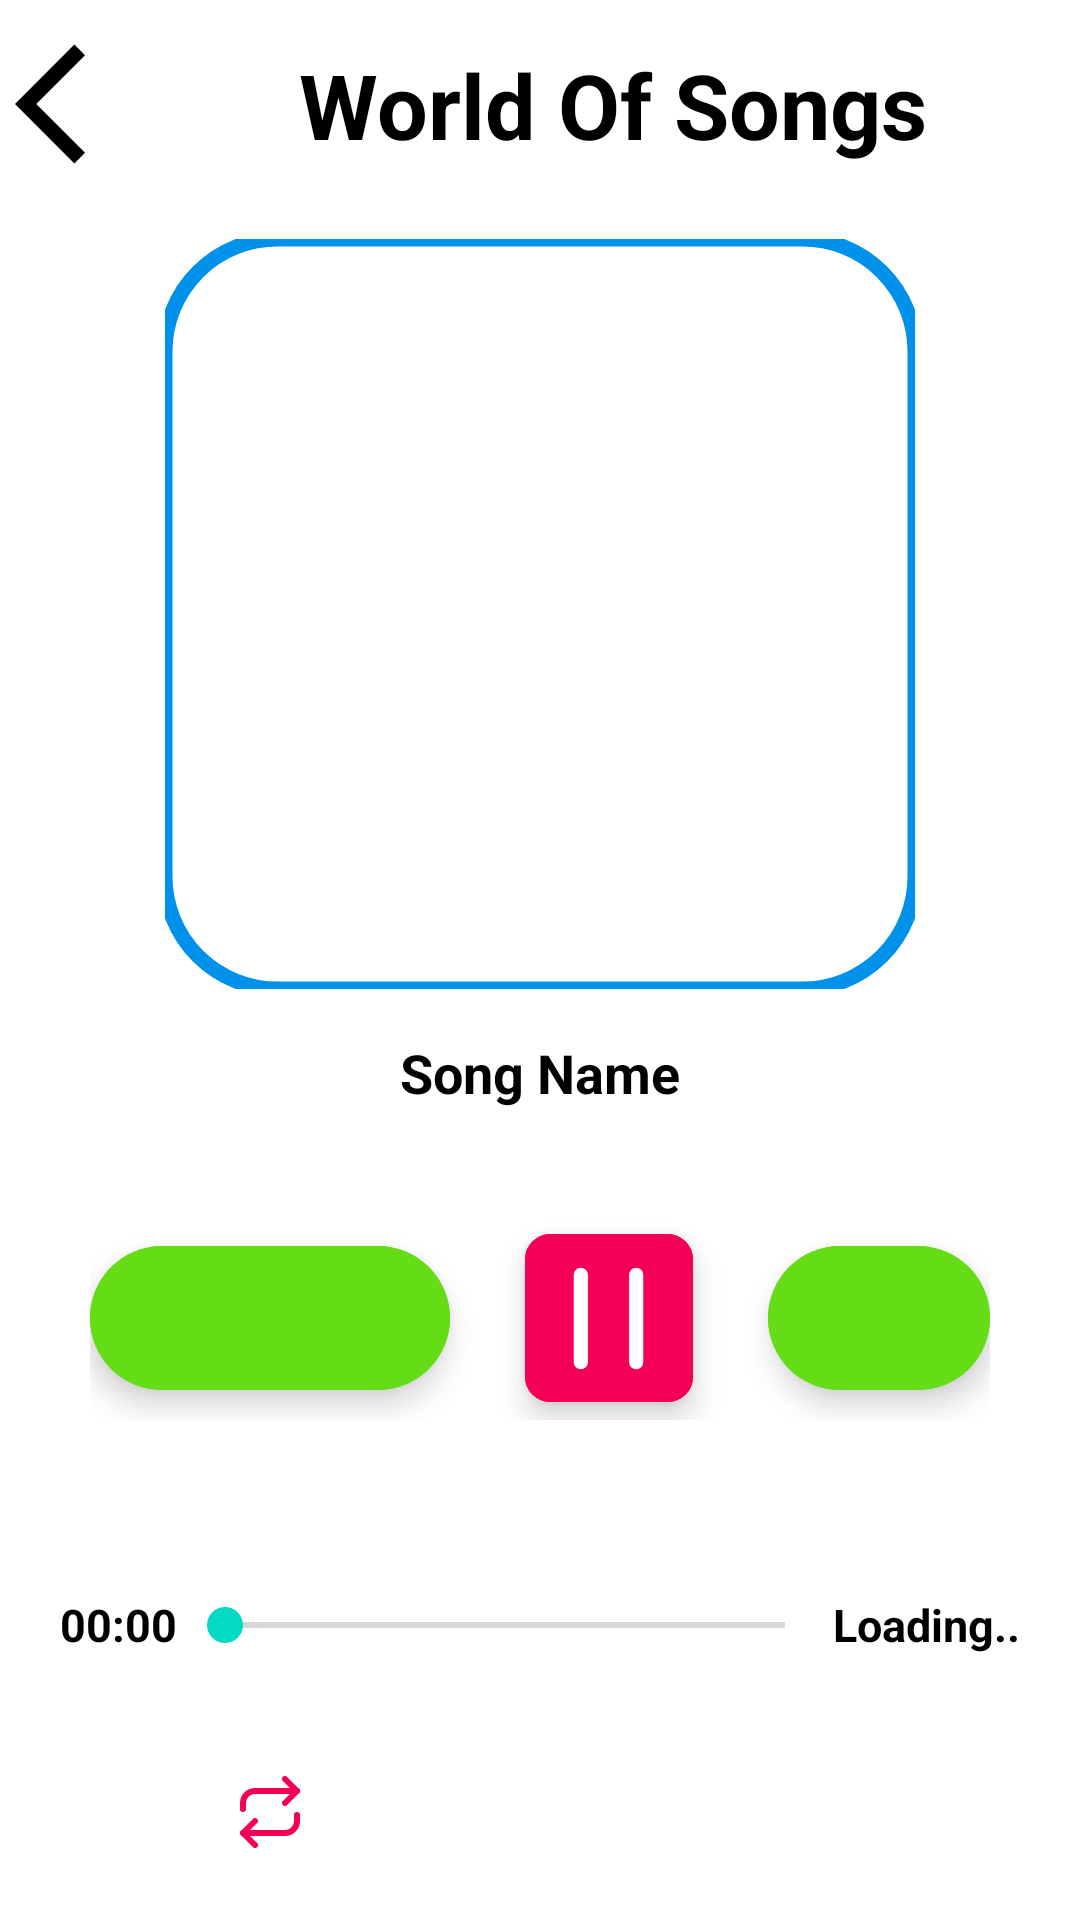

Where icons sit on this 1080px x 1920px app screen, as (x1, y1, x2, y2):
Back: (15, 44, 85, 164)
pause: (525, 1234, 693, 1402)
repeat: (240, 1776, 300, 1848)
